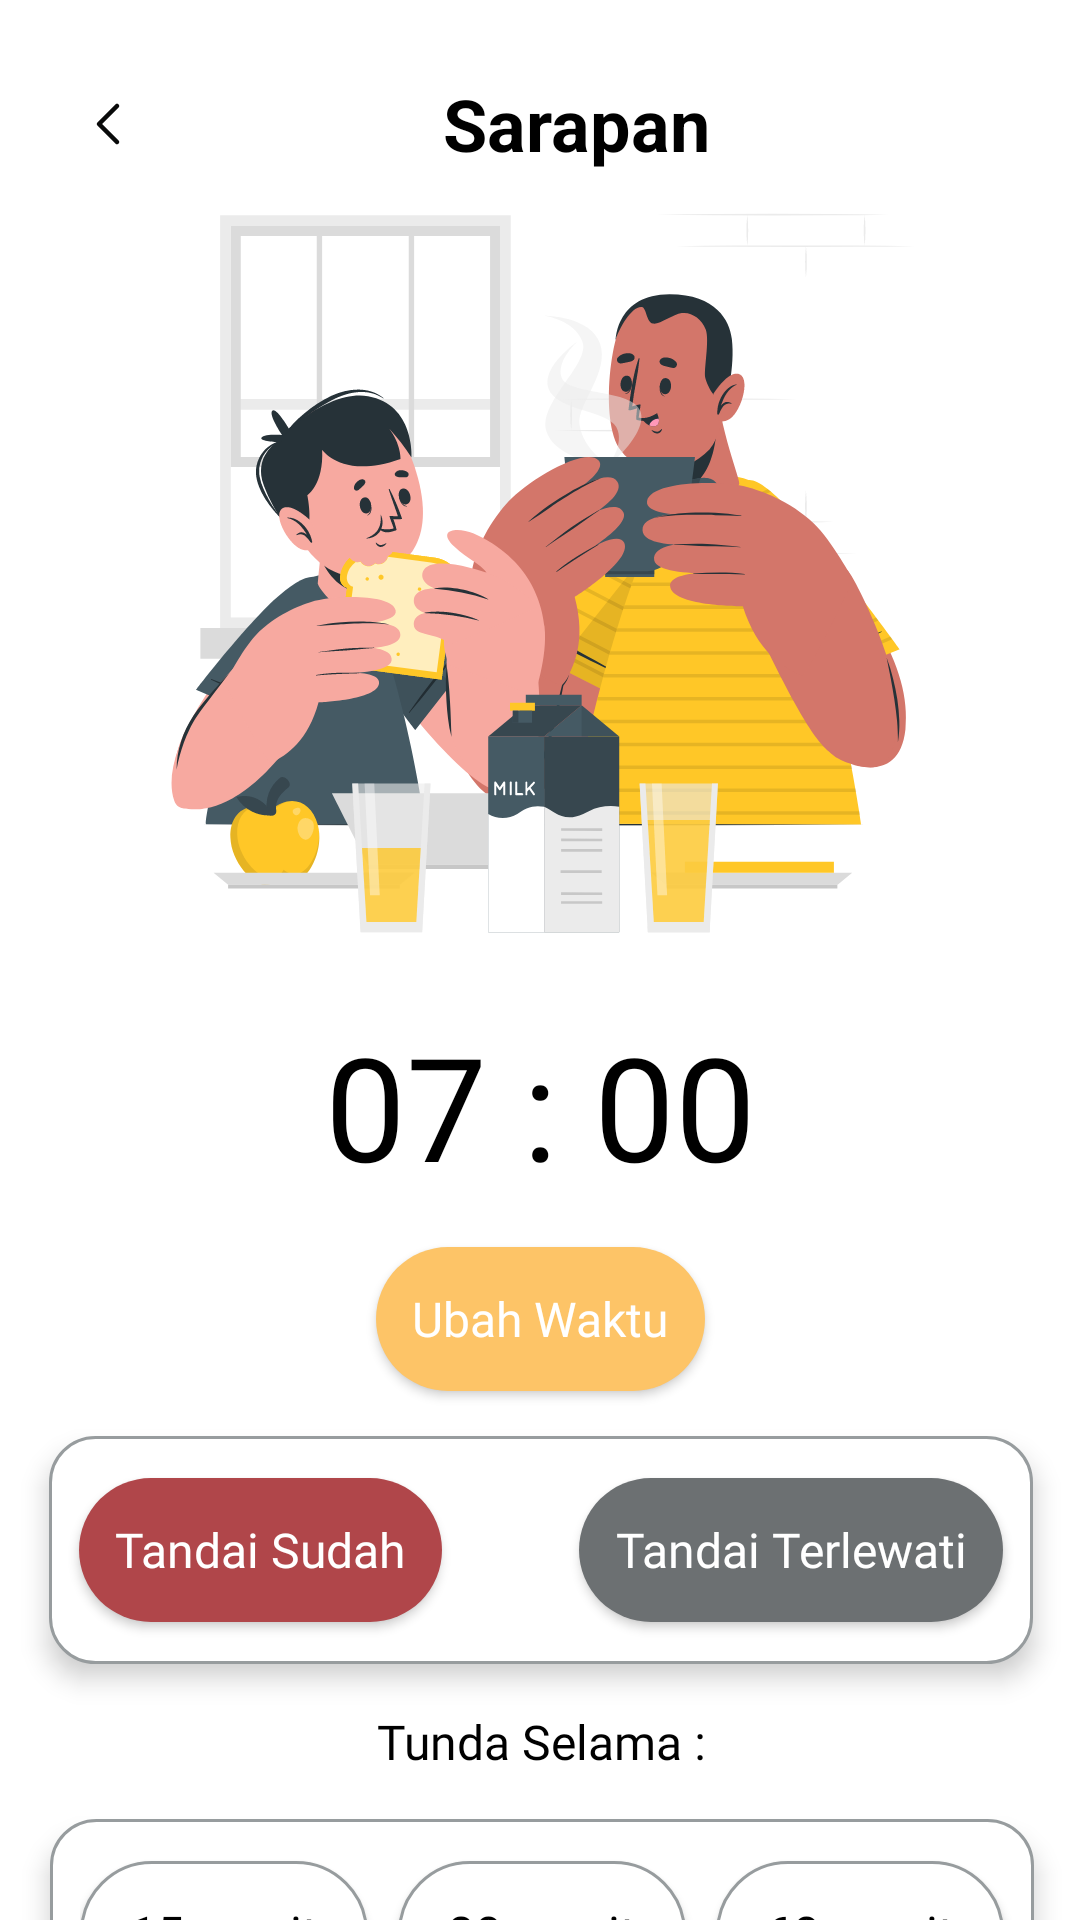

Screen size 1080×1920. Icon name, then its box in pixels as (x1, y1, x2, y2):
back: (96, 103, 120, 145)
